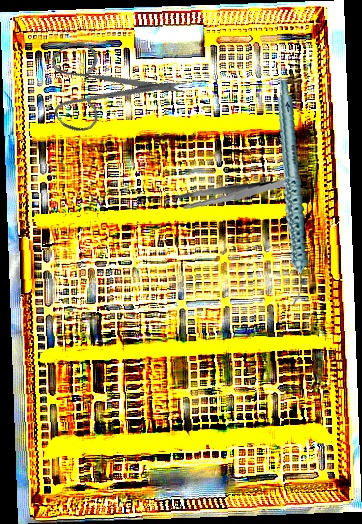Dressing Forceps: (173, 169, 288, 218)
Handpiece: (244, 79, 337, 308)
Iris Scissors: (24, 0, 192, 165)
